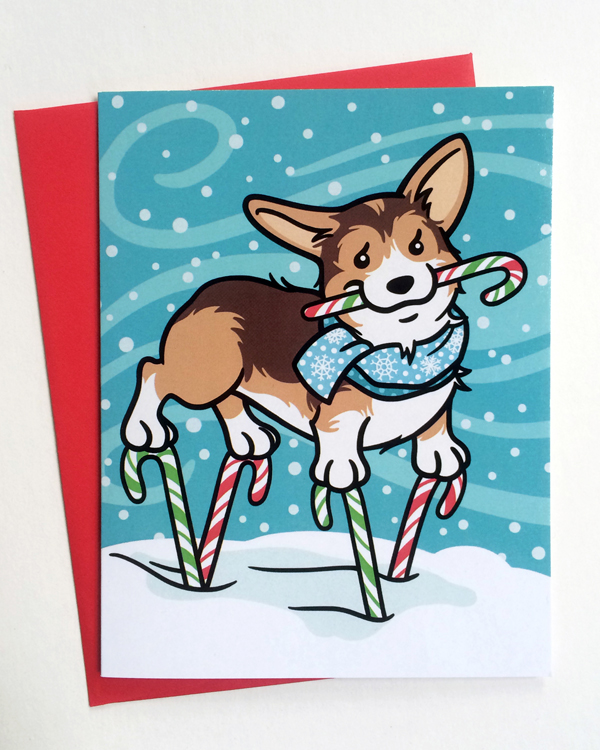dog: (120, 130, 533, 633)
